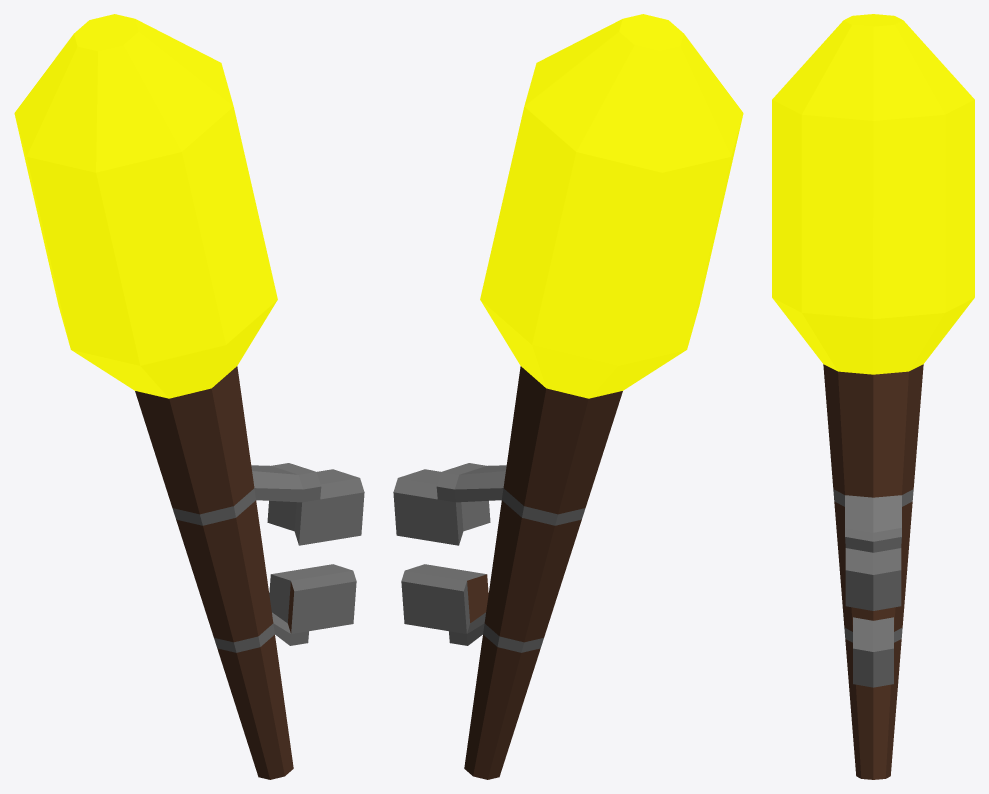
The model's file is Torch.fbx.
The picture shows the model from 3 angles, left to right: view 1: azimuth 30°, elevation 25°; view 2: azimuth 150°, elevation 25°; view 3: azimuth 270°, elevation 25°; orthographic projection. The views are drawn at different scales.
Parts seen in each view (by area): view 1: Torch; view 2: Torch; view 3: Torch.
Boxes of the visible parts, x1,y1,x2,y2 form: Torch: (14, 14, 364, 779); Torch: (393, 14, 743, 779); Torch: (772, 14, 974, 779).
Bounding box in the file's own units: 334 × 754 × 200.
